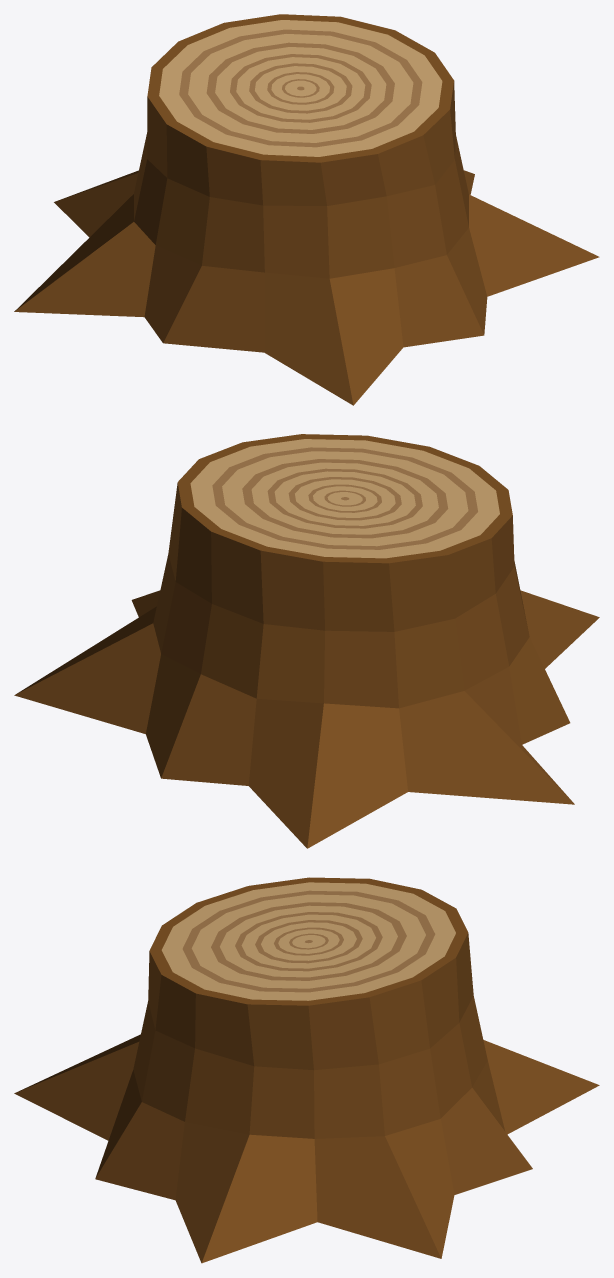
The model's file is Stump1.fbx.
3 views of the same model, one above another, from view 1: azimuth 30°, elevation 25°; view 2: azimuth 150°, elevation 25°; view 3: azimuth 270°, elevation 25° (orthographic). The views are drawn at different scales.
Parts seen in each view (by area): view 1: Cylinder.009; view 2: Cylinder.009; view 3: Cylinder.009.
Part boxes in pixels (x1,y1,x2,y2): Cylinder.009: [14, 14, 599, 405]; Cylinder.009: [14, 434, 599, 848]; Cylinder.009: [14, 877, 599, 1263].
Bounding box in the file's own units: 300 × 116 × 297.
